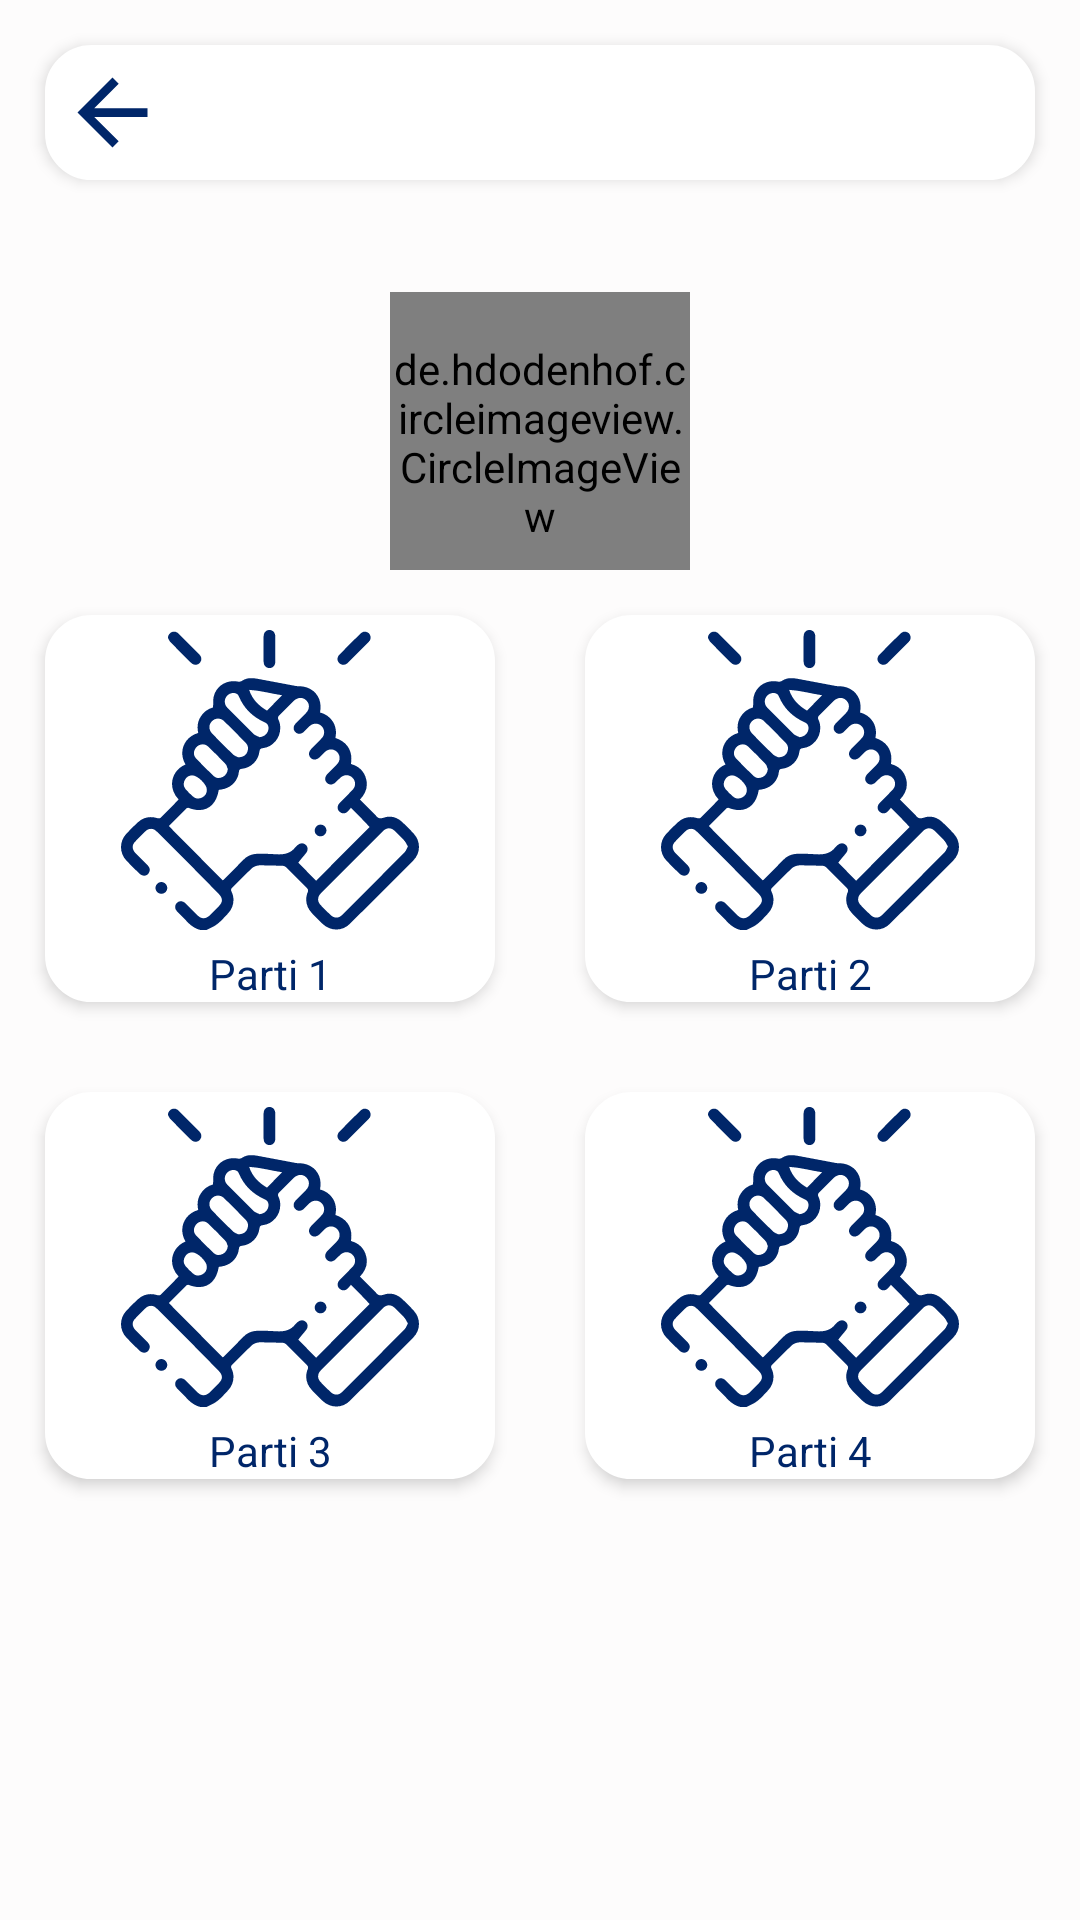

Screen size 1080px x 1920px. Icon name, then its center in pixels as [x,y]:
back: [112,112]
support: [270,780], [810,780], [270,1257], [810,1257]
